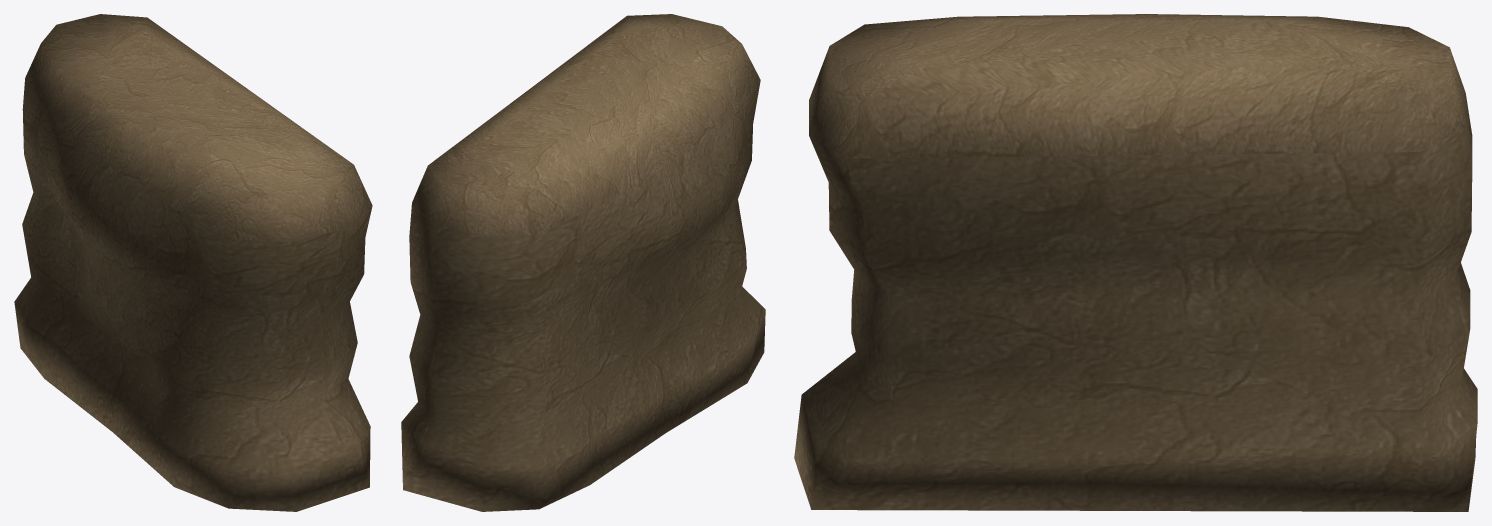
The model's file is Basic_MediumlPlat.fbx.
3 renders of one model, left to right at view 1: azimuth 30°, elevation 25°; view 2: azimuth 150°, elevation 25°; view 3: azimuth 270°, elevation 25°, orthographic. The views are drawn at different scales.
Parts seen in each view (by area): view 1: pCube2; view 2: pCube2; view 3: pCube2.
Part boxes in pixels (box(x1,y1,x2,y2)): pCube2: box(14, 14, 372, 511); pCube2: box(401, 14, 765, 511); pCube2: box(794, 14, 1477, 511).
Bounding box in the file's own units: 270 × 457 × 656.
1 material, 1 textured.
